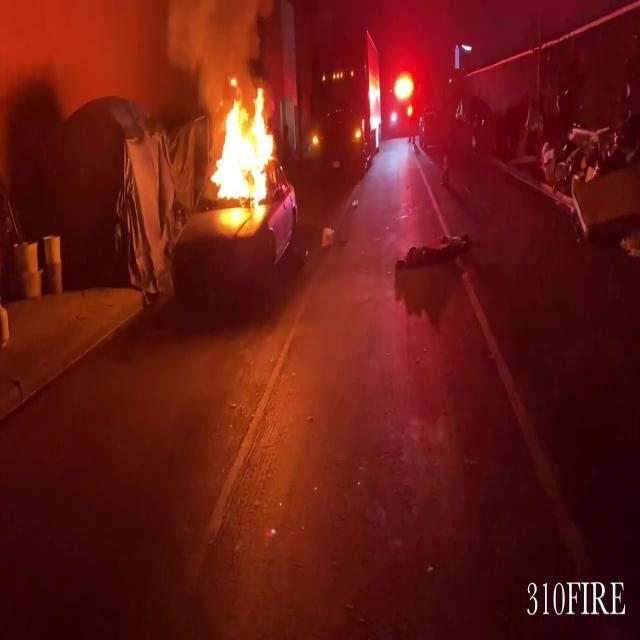Fire: (203, 78, 284, 220)
Smoke: (154, 0, 272, 96)
